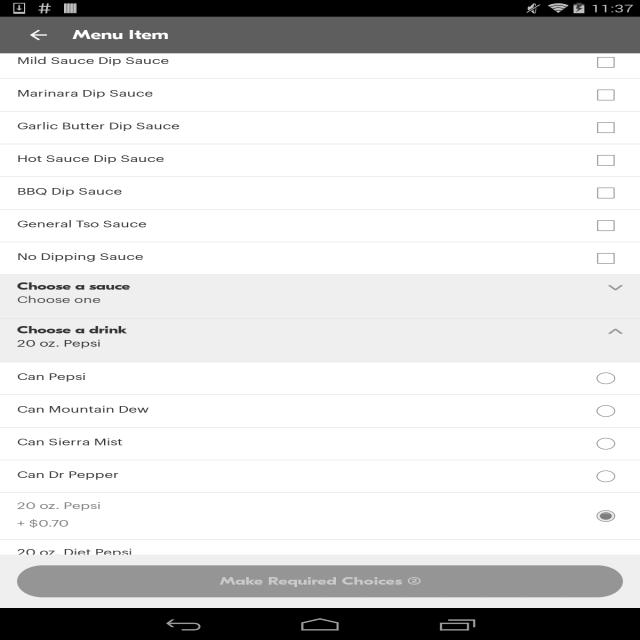Button: (17, 566, 623, 598)
CheckBox: (589, 84, 623, 106), (589, 182, 623, 204), (589, 52, 623, 73), (589, 117, 623, 138), (589, 150, 623, 171), (589, 215, 623, 236), (589, 248, 623, 269)
EditText: (17, 57, 510, 83)
ImageButton: (9, 17, 68, 53)
ImageView: (520, 63, 542, 77)
RadioButton: (589, 400, 623, 422), (589, 505, 623, 527), (589, 368, 623, 389), (589, 433, 623, 454), (589, 466, 623, 487), (589, 552, 623, 573)
TextView: (0, 418, 640, 436), (17, 183, 589, 203), (17, 248, 589, 268), (17, 292, 608, 310), (17, 336, 608, 354), (17, 523, 608, 541), (17, 53, 589, 71), (17, 86, 589, 104), (17, 151, 589, 169), (17, 369, 589, 387), (17, 402, 589, 420), (17, 467, 589, 485), (17, 498, 589, 516), (17, 516, 589, 534), (17, 545, 589, 563), (0, 88, 640, 104), (17, 119, 589, 136), (17, 217, 589, 234), (17, 435, 589, 452), (17, 465, 457, 483), (17, 447, 582, 460), (17, 505, 582, 518), (17, 563, 582, 576), (17, 581, 424, 599), (17, 280, 608, 292), (17, 324, 608, 336), (17, 84, 583, 96), (17, 142, 583, 154), (17, 200, 583, 212), (17, 258, 583, 270), (17, 316, 583, 328), (17, 374, 583, 386), (17, 275, 375, 293), (17, 391, 348, 409), (17, 333, 318, 351), (17, 217, 284, 235), (17, 159, 257, 177), (17, 101, 218, 119), (546, 61, 623, 79), (73, 28, 169, 42), (583, 81, 623, 99), (583, 139, 623, 157), (583, 197, 623, 215), (583, 255, 623, 273), (583, 313, 623, 331), (583, 371, 623, 389), (582, 445, 623, 462), (582, 503, 623, 520), (582, 561, 623, 578)
